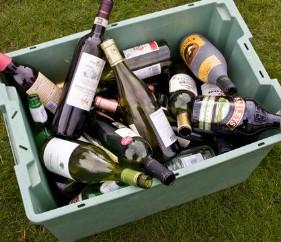glass: (101, 38, 176, 165), (50, 0, 115, 138), (42, 133, 151, 192), (1, 48, 64, 116), (189, 94, 280, 137), (178, 33, 237, 95), (174, 129, 234, 160), (101, 58, 164, 84), (26, 95, 55, 150), (162, 144, 215, 173), (49, 176, 87, 203)
